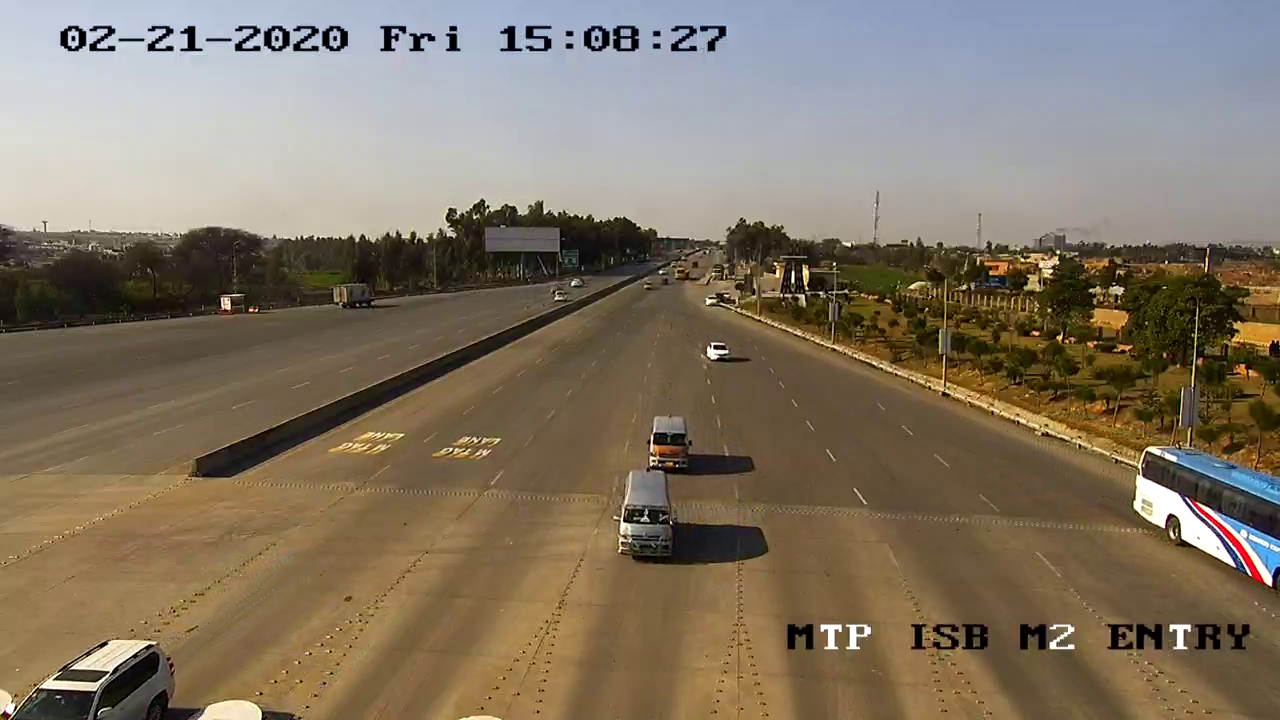f3: (606, 463, 685, 572)
